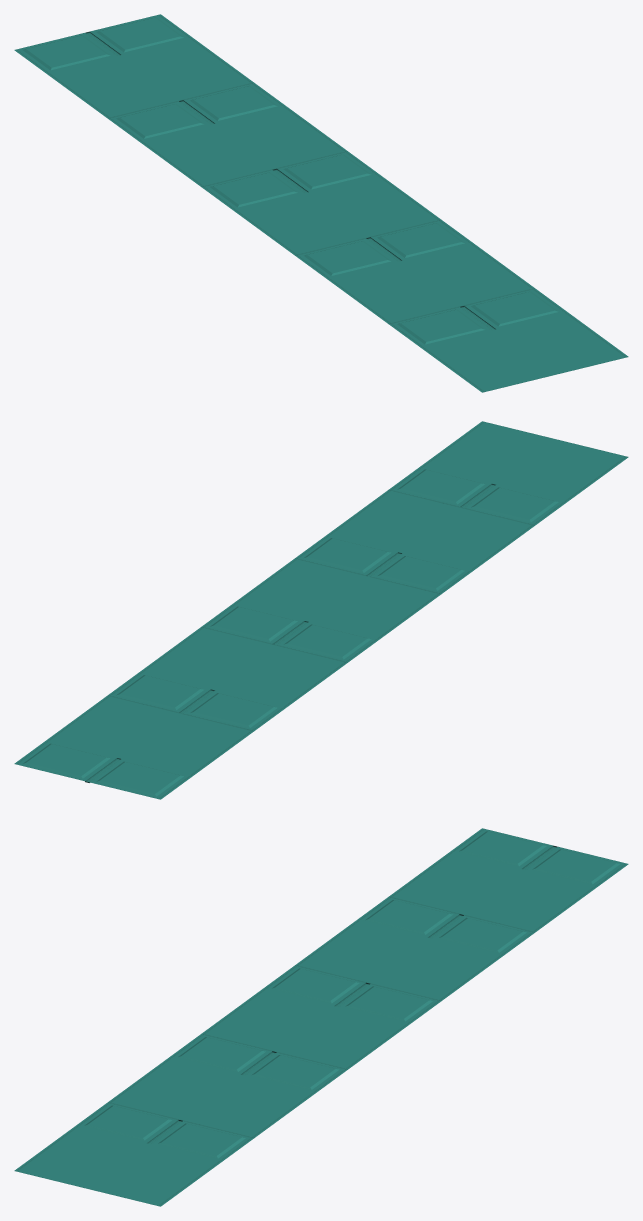
The model's file is sc_lvl1_floortile_01.FBX.
The picture shows the model from 3 angles, top to bottom: view 1: azimuth 30°, elevation 25°; view 2: azimuth 150°, elevation 25°; view 3: azimuth 330°, elevation 25°; orthographic projection.
Parts seen in each view (by area): view 1: sc_lvl1_floortile_01; view 2: sc_lvl1_floortile_01; view 3: sc_lvl1_floortile_01.
Part boxes in pixels (x1,y1,x2,y2): sc_lvl1_floortile_01: (14,14,628,392); sc_lvl1_floortile_01: (14,421,628,799); sc_lvl1_floortile_01: (14,828,628,1206).
Size of the model in its own units: 18.1 by 0.2245 by 100.
